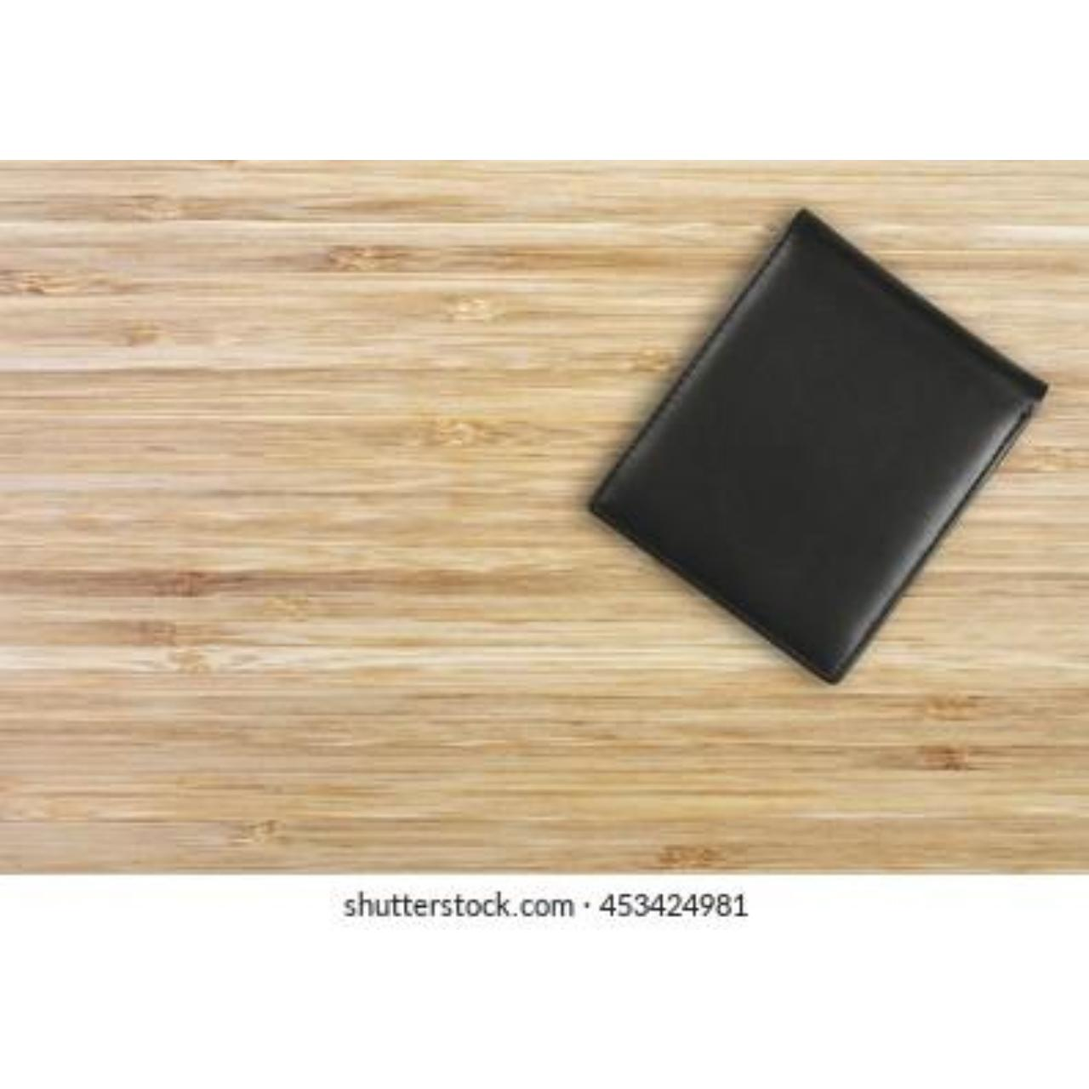wallet: (561, 176, 1069, 684)
